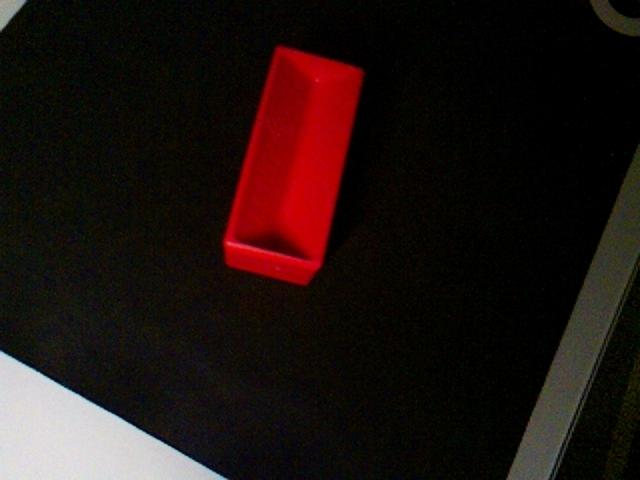red: (221, 43, 366, 287)
